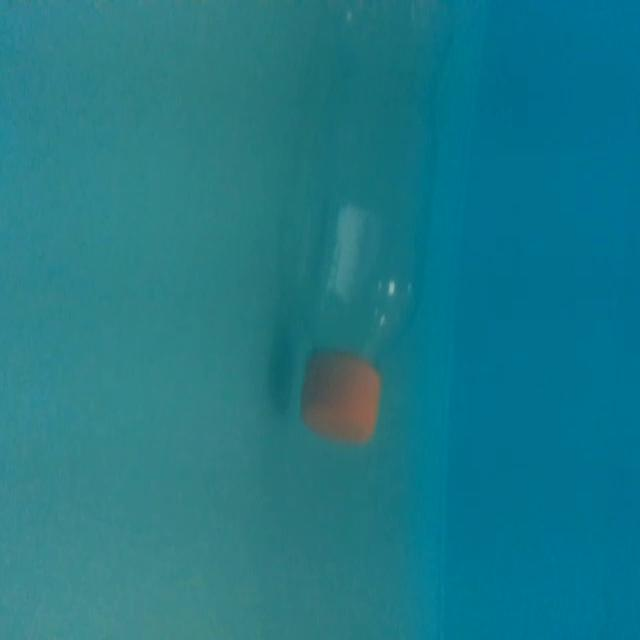plastic bottle: (293, 2, 460, 452)
